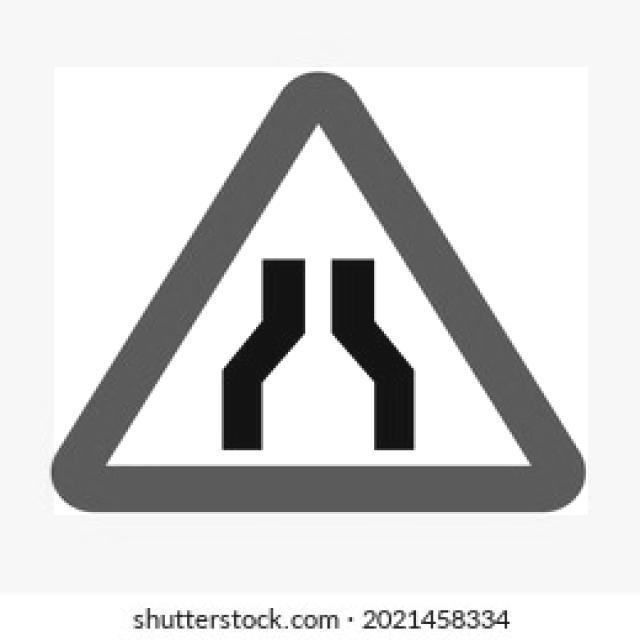narrow road ahead: (45, 64, 592, 523)
